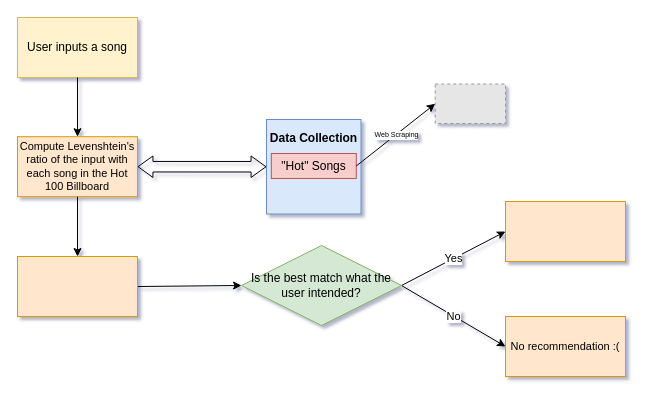
The diagram is 649 pixels wide and 400 high, and some of its shapes have lost their labels. Grey dashed boxes stand in for pictures. Here are the shapes that lost their labels. From the top down, the centre of each, then its label:
At (565,231): "Recommend another song from the Billboard HOT 100".
At (77,286): "Find the best match from the Hot 100 in the list".
